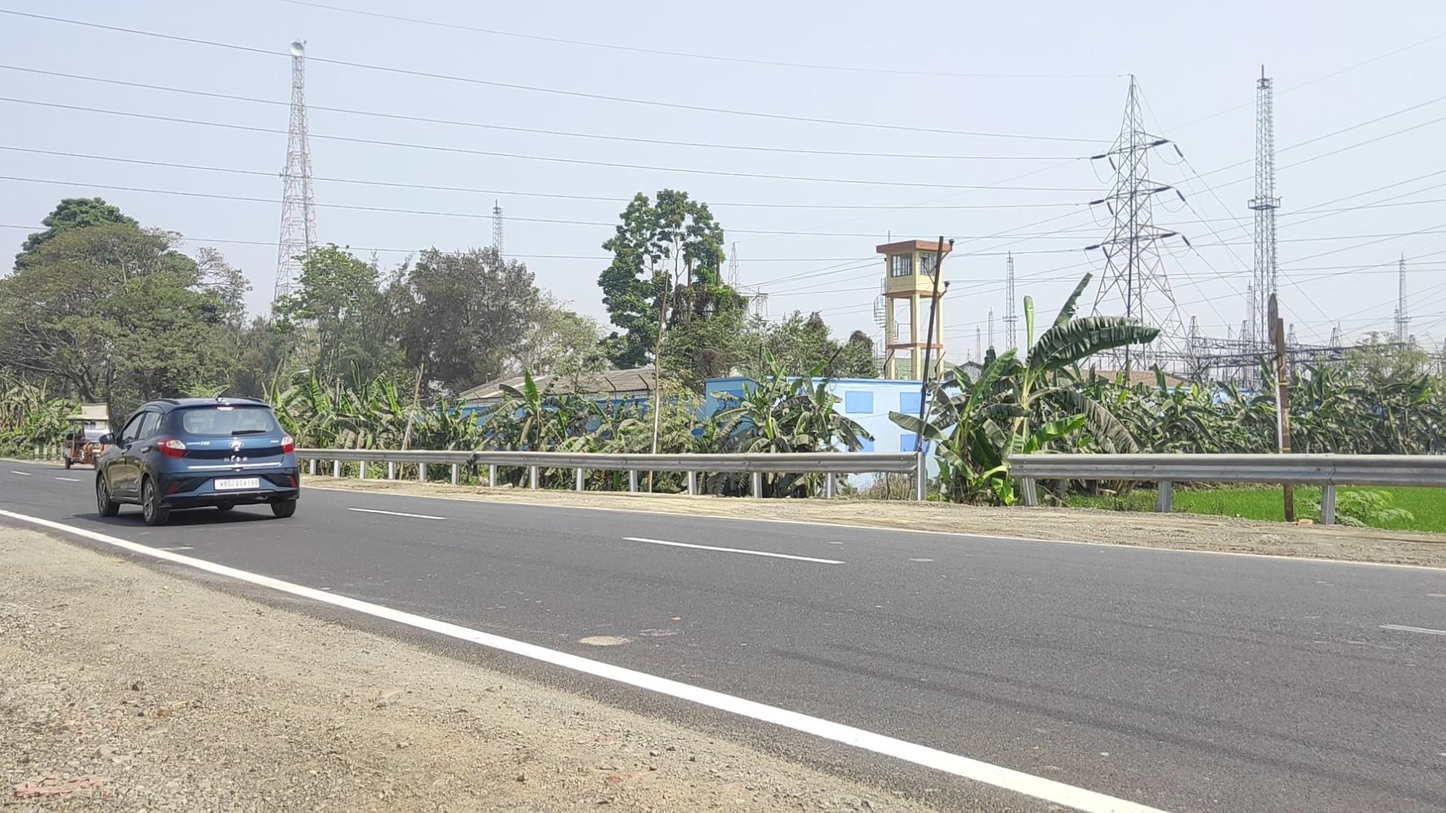Auto: (63, 414, 113, 470)
car: (95, 397, 300, 525)
